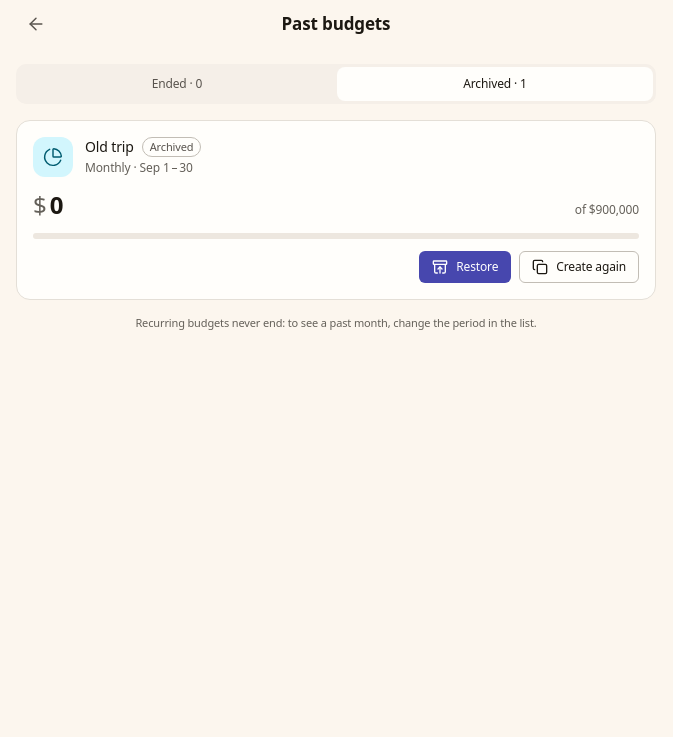
it: PastBudgetsView › restores an archived budget from its card
Step 1. Click the button named "Restore Old trip" → (465, 267), box [419,251,511,283]
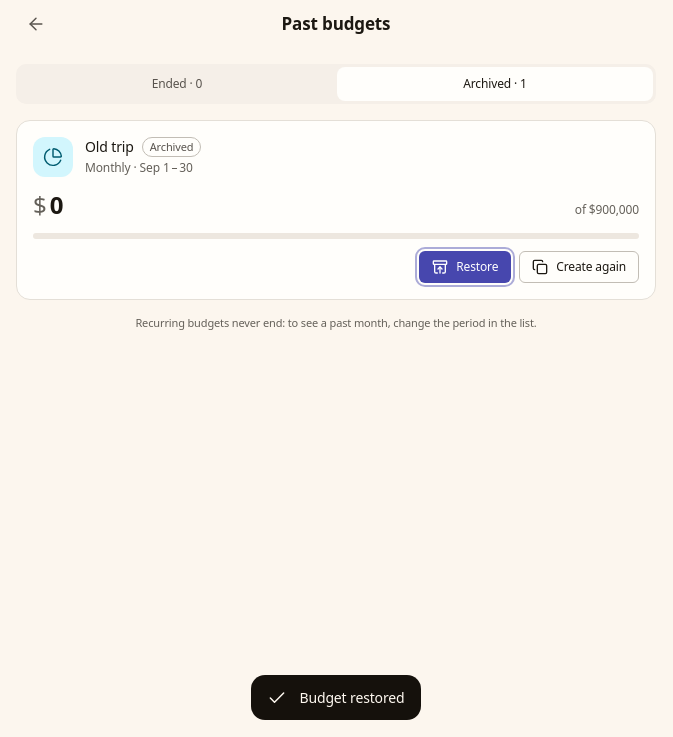
Check: the text "Budget restored" is shown, box [251,675,420,720]
